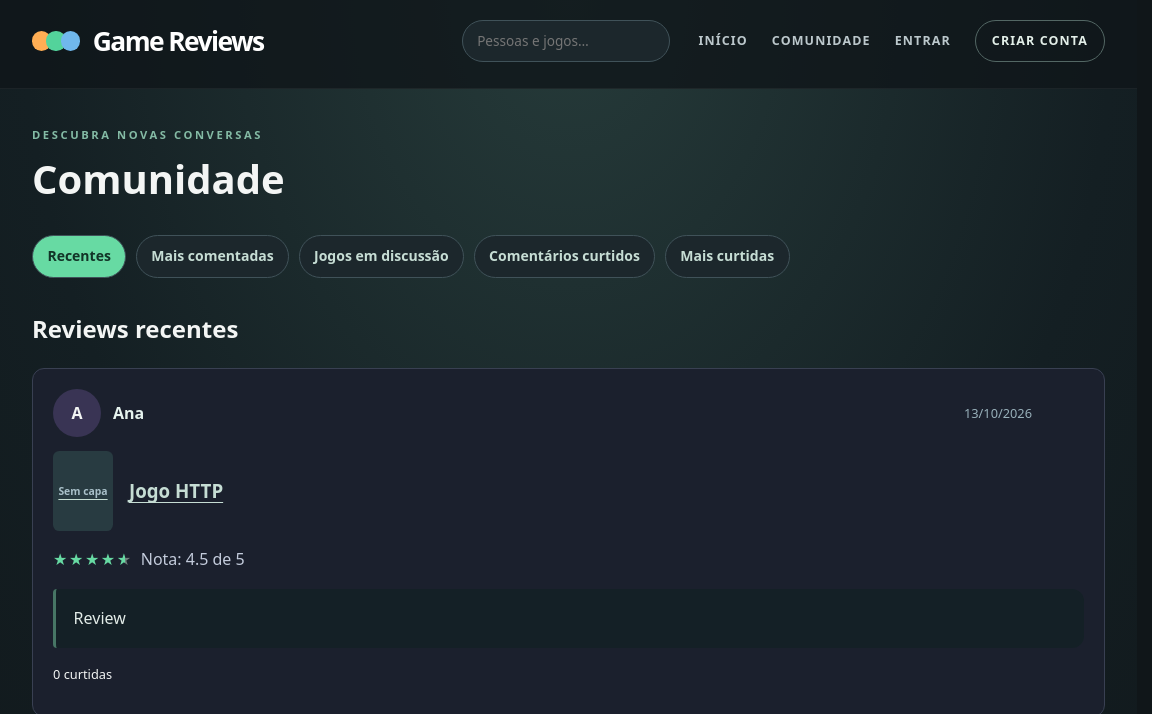
Test: lista vazia não inventa comentários, mesmo se contagem do ranking estiver antiga
This screenshot has width=1152, height=714.
Expected: the text "Review" is shown, [53, 589, 1084, 648]
Click the button "Mais comentadas". click: point(212, 256)
box: [136, 234, 289, 278]
(page scrolled)
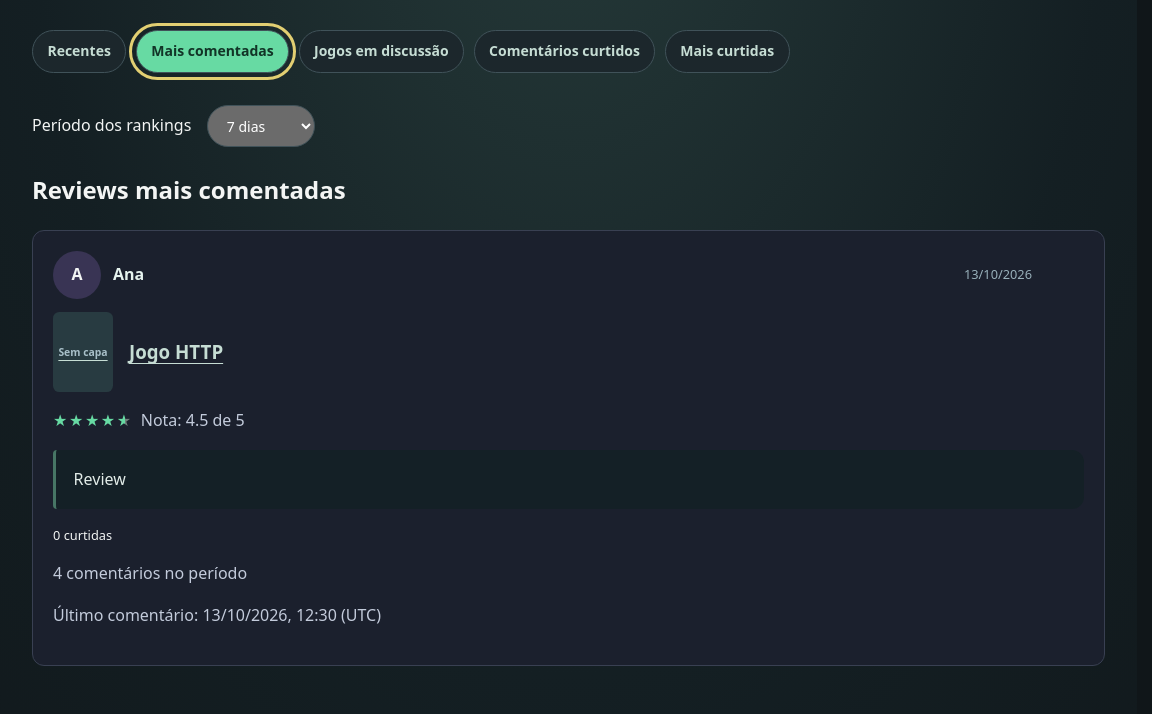
Expected: the text "4 comentários no período" is shown, [53, 562, 247, 584]
